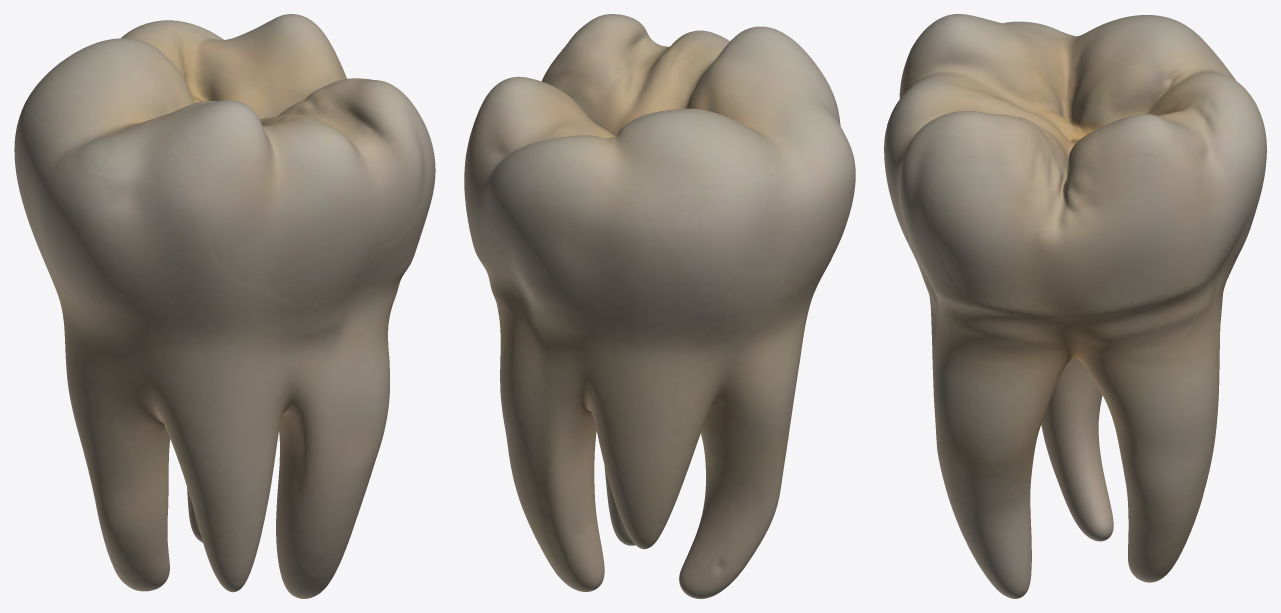
File: tooth.glb
3 renders of one model, left to right at view 1: azimuth 30°, elevation 25°; view 2: azimuth 150°, elevation 25°; view 3: azimuth 270°, elevation 25°, orthographic. The views are drawn at different scales.
Parts seen in each view (by area): view 1: tripo_node_9fe0d0ca-0eca-40b7-b5e8-d2b10809e812; view 2: tripo_node_9fe0d0ca-0eca-40b7-b5e8-d2b10809e812; view 3: tripo_node_9fe0d0ca-0eca-40b7-b5e8-d2b10809e812.
Boxes of the visible parts, x1=… form: tripo_node_9fe0d0ca-0eca-40b7-b5e8-d2b10809e812: x1=14, y1=14, x2=435, y2=598; tripo_node_9fe0d0ca-0eca-40b7-b5e8-d2b10809e812: x1=464, y1=14, x2=855, y2=598; tripo_node_9fe0d0ca-0eca-40b7-b5e8-d2b10809e812: x1=884, y1=14, x2=1266, y2=598.
Size of the model in its own units: 0.6594 by 1 by 0.6572.
1 material, 1 textured.
